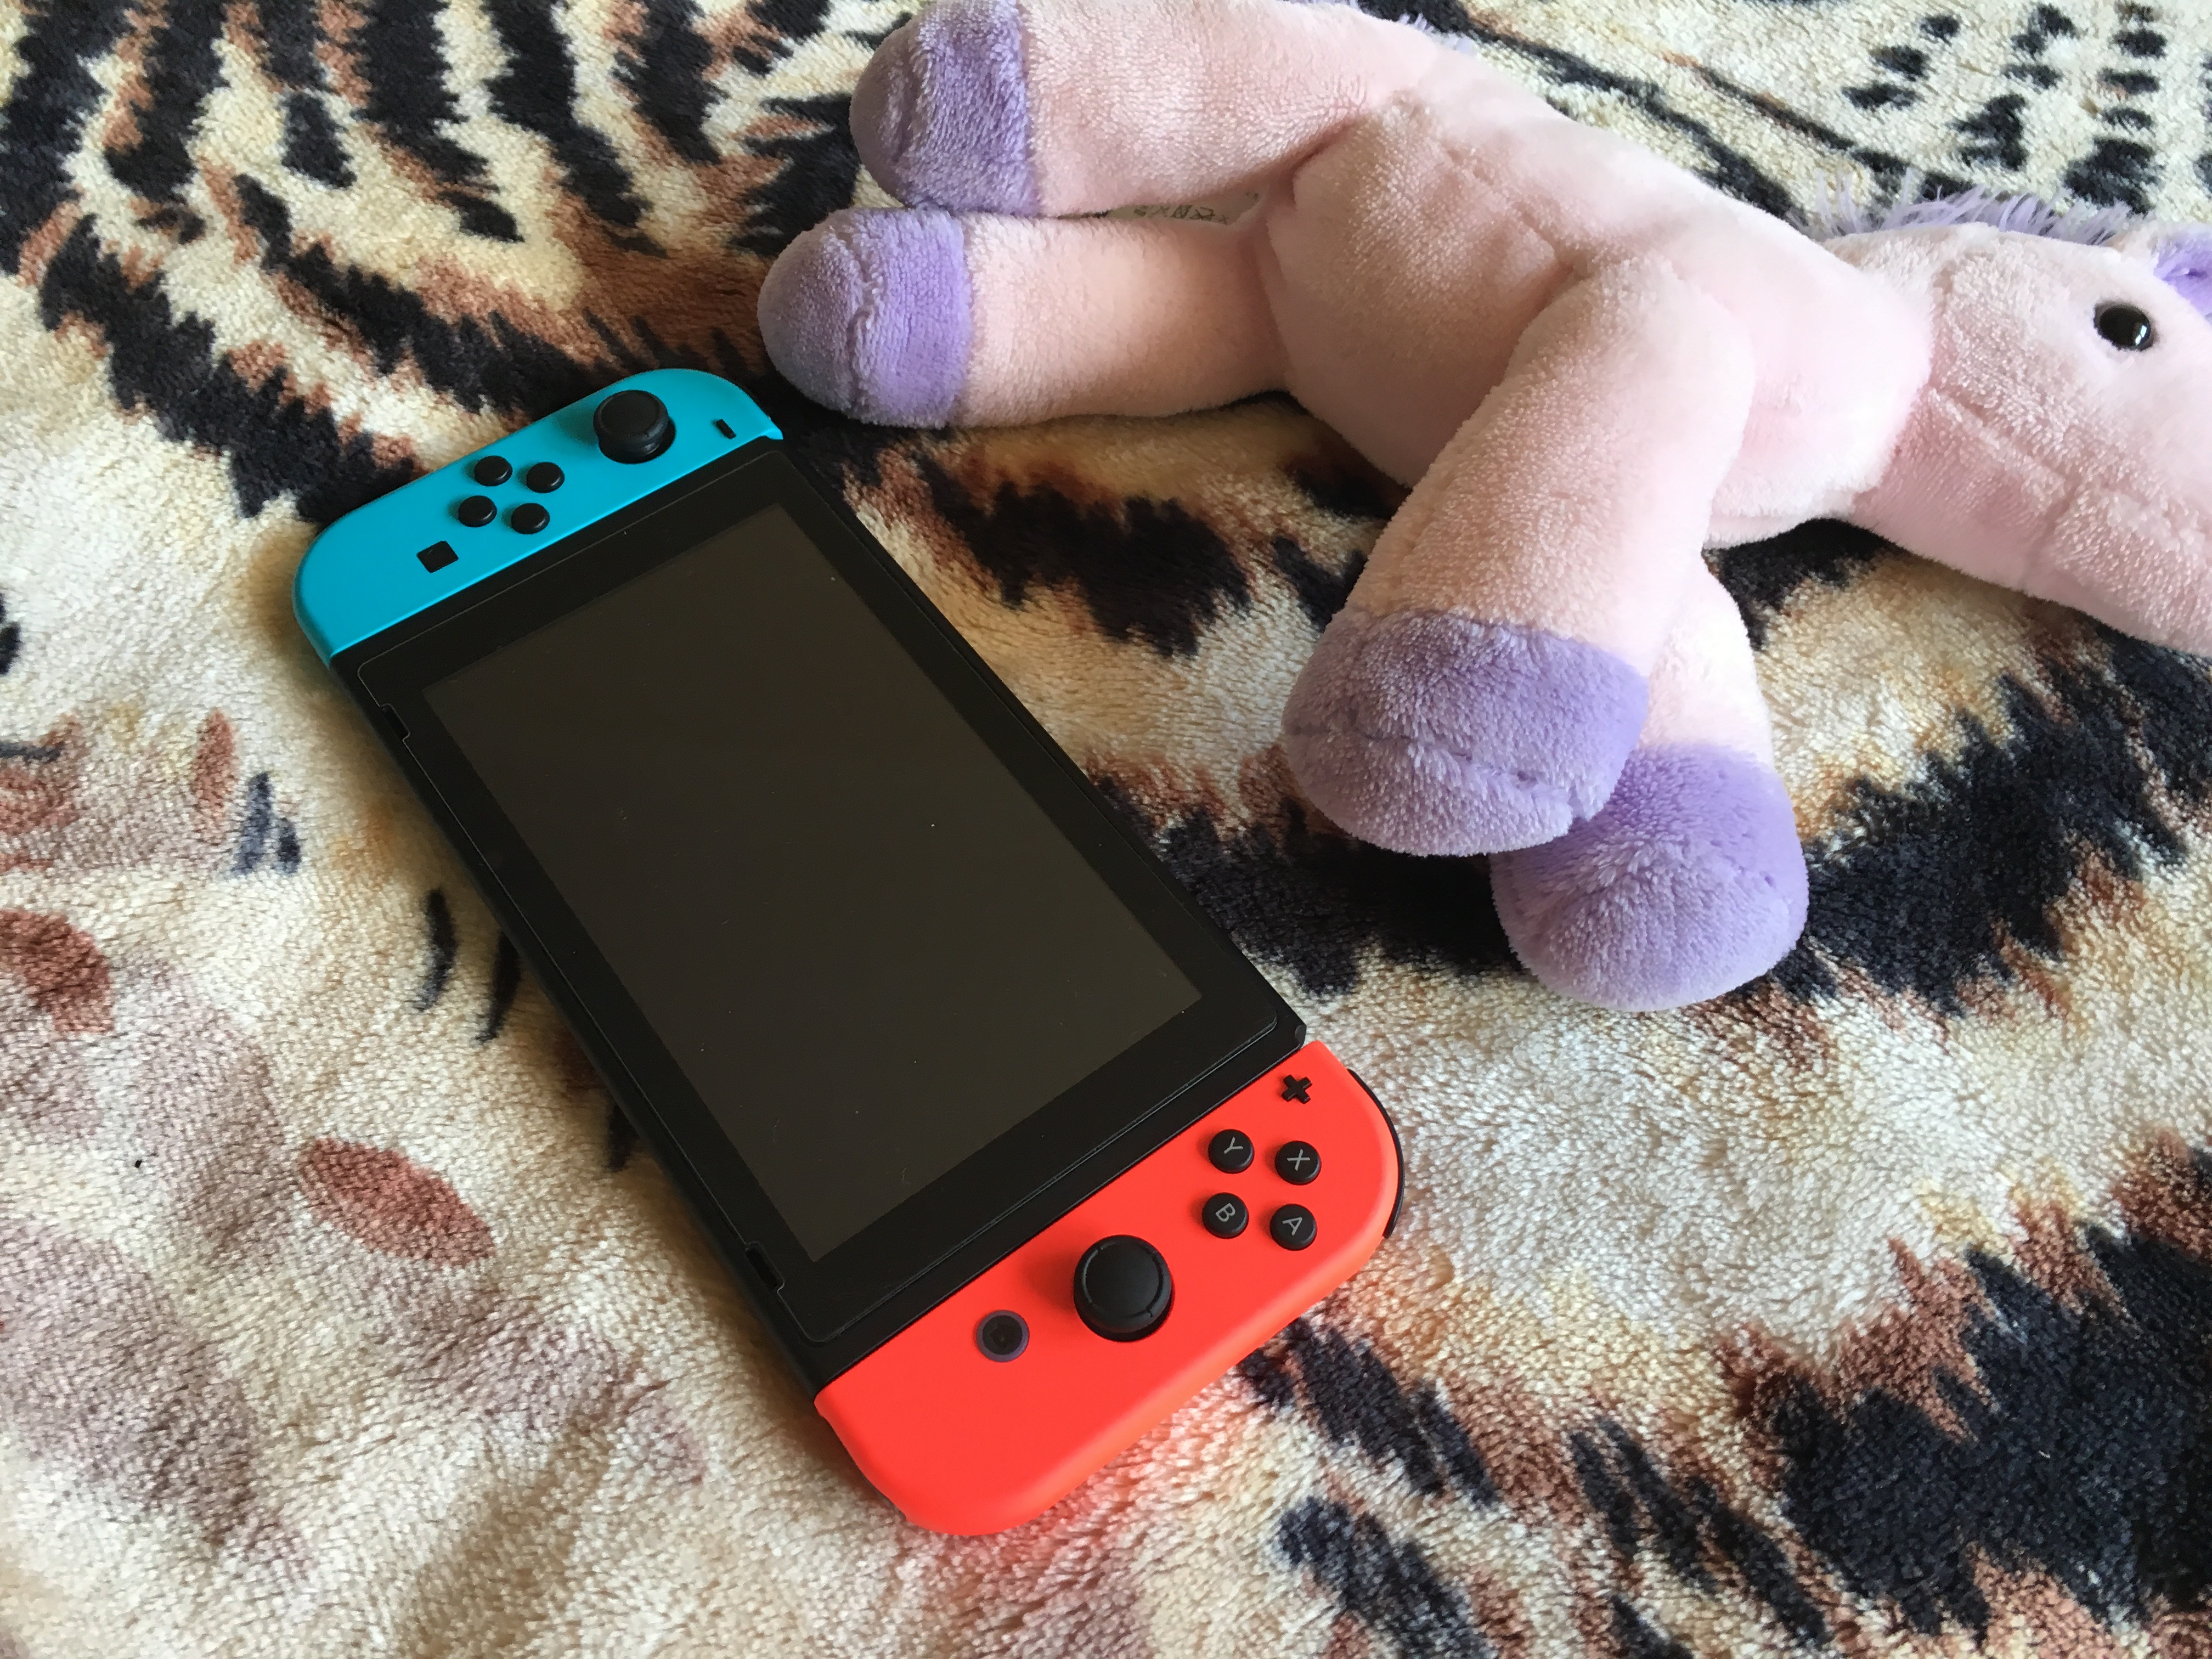NintendoSwitch: (253, 357, 1430, 1565)
